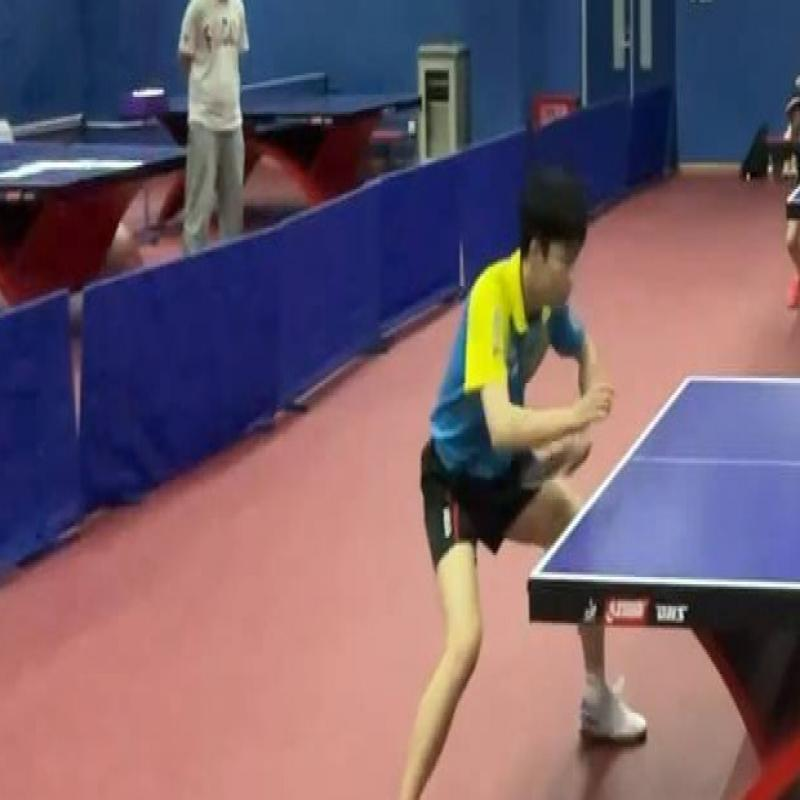bats: (524, 439, 596, 504)
